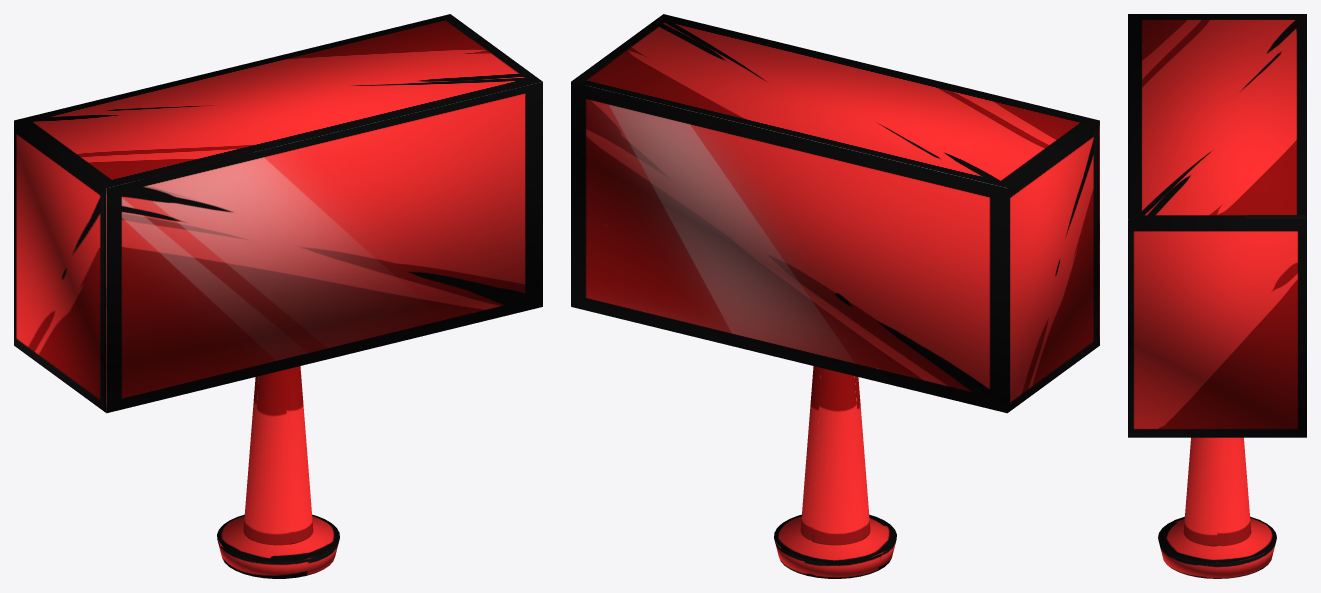
Rendered from hammer.fbx.
3 views of the same model, side by side, from view 1: azimuth 30°, elevation 25°; view 2: azimuth 150°, elevation 25°; view 3: azimuth 270°, elevation 25° (orthographic). The views are drawn at different scales.
Parts seen in each view (by area): view 1: hammer; view 2: hammer; view 3: hammer.
Boxes of the visible parts, <box> form: hammer: <box>14,14,542,578</box>; hammer: <box>571,14,1099,578</box>; hammer: <box>1128,14,1306,578</box>.
Bounding box in the file's own units: 0.7726 × 2.09 × 2.1.
